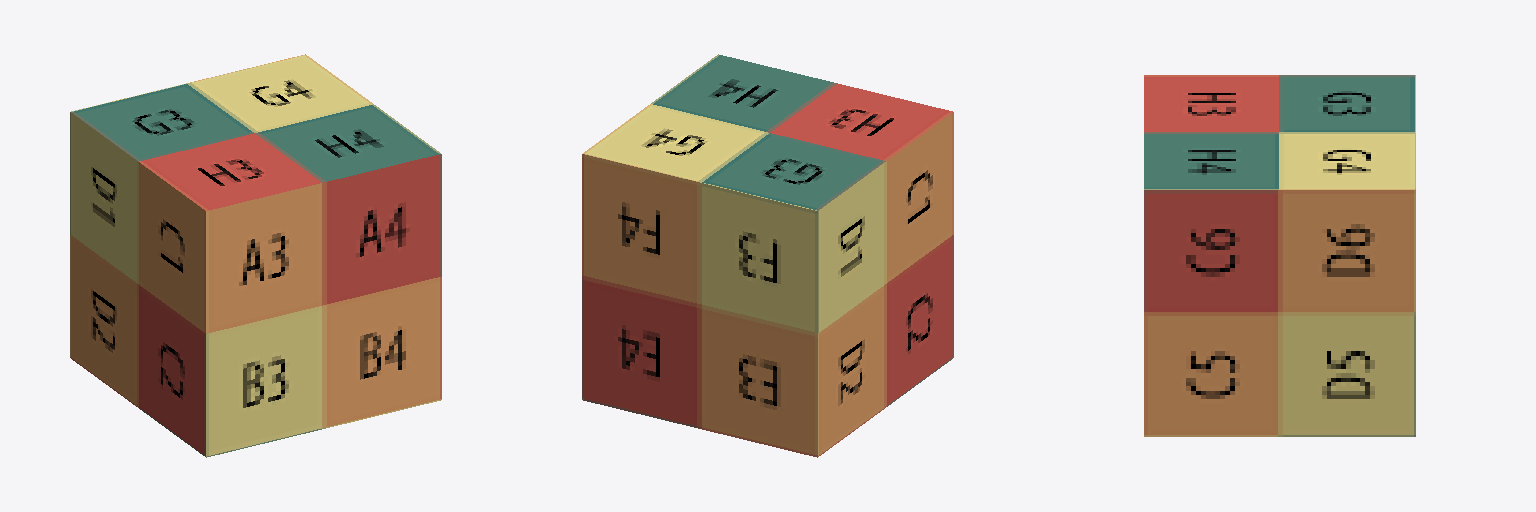
3 views of the same model, side by side, from view 1: azimuth 30°, elevation 25°; view 2: azimuth 150°, elevation 25°; view 3: azimuth 270°, elevation 25° (orthographic).
Parts seen in each view (by area): view 1: cube; view 2: cube; view 3: cube.
Boxes of the visible parts, x1=… form: cube: x1=70, y1=54, x2=441, y2=457; cube: x1=582, y1=54, x2=953, y2=457; cube: x1=1144, y1=75, x2=1415, y2=436.
Bounding box in the file's own units: 1 × 1 × 1.
Materials: 1 (1 with a texture image).